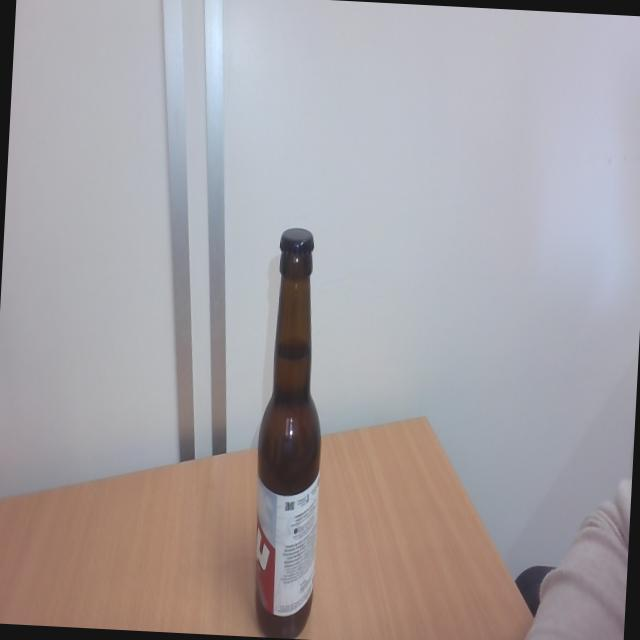Bottle: (252, 253, 334, 640)
Cap: (276, 223, 318, 261)
Label: (252, 474, 321, 624)
